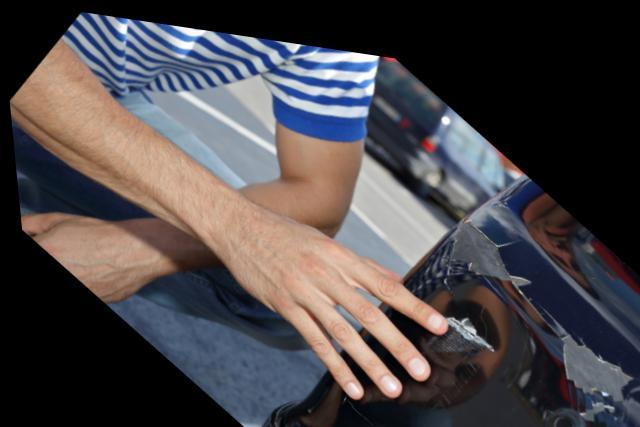scratch: (429, 207, 625, 412), (421, 302, 486, 400)
